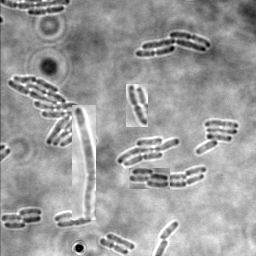Dividing: (72, 105, 96, 220), (126, 84, 148, 127), (99, 238, 128, 255), (170, 175, 204, 189), (54, 209, 90, 222), (56, 217, 92, 228), (27, 7, 64, 17)
Microcolony: (7, 76, 98, 147), (117, 137, 180, 168), (135, 32, 211, 57), (195, 120, 238, 155), (1, 208, 42, 229), (129, 168, 170, 189)
Rod: (106, 233, 135, 251), (157, 222, 178, 240), (184, 167, 206, 177), (170, 174, 187, 183)
